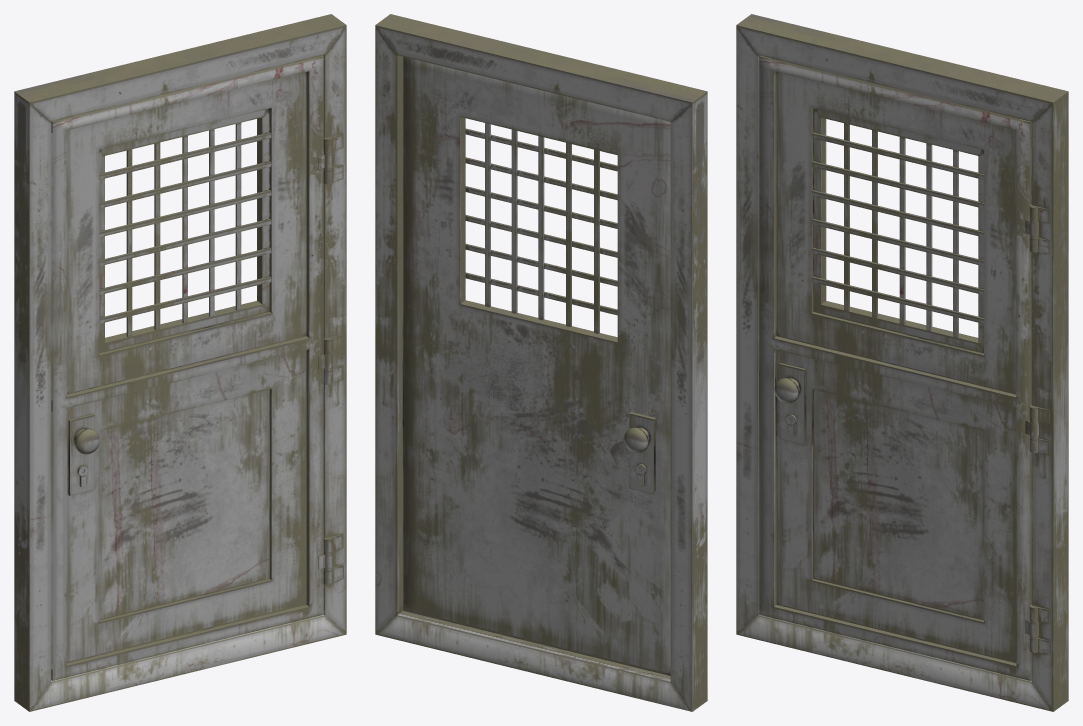
The model's file is usa_scary1.fbx.
3 views of the same model, side by side, from view 1: azimuth 30°, elevation 25°; view 2: azimuth 150°, elevation 25°; view 3: azimuth 330°, elevation 25° (orthographic).
Visible parts, largest first — view 1: J_2b07.001, J_2b07; view 2: J_2b07.001, J_2b07; view 3: J_2b07.001, J_2b07.
Part boxes in pixels (left/top/right/bottom): J_2b07.001: left=51, top=55, right=323, bottom=680; J_2b07: left=14, top=14, right=346, bottom=711; J_2b07.001: left=403, top=56, right=670, bottom=675; J_2b07: left=375, top=14, right=707, bottom=711; J_2b07.001: left=759, top=55, right=1031, bottom=680; J_2b07: left=736, top=14, right=1068, bottom=711.
Bounding box in the file's own units: 135 × 248 × 19.95.
